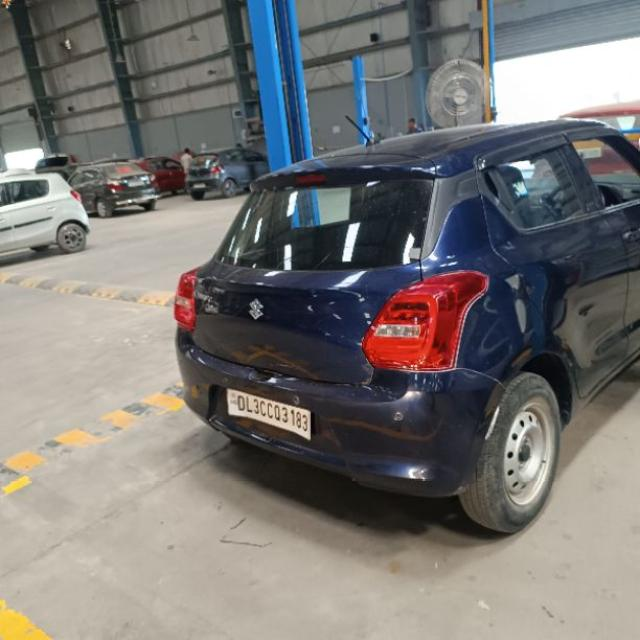license_plate: (224, 387, 312, 441)
